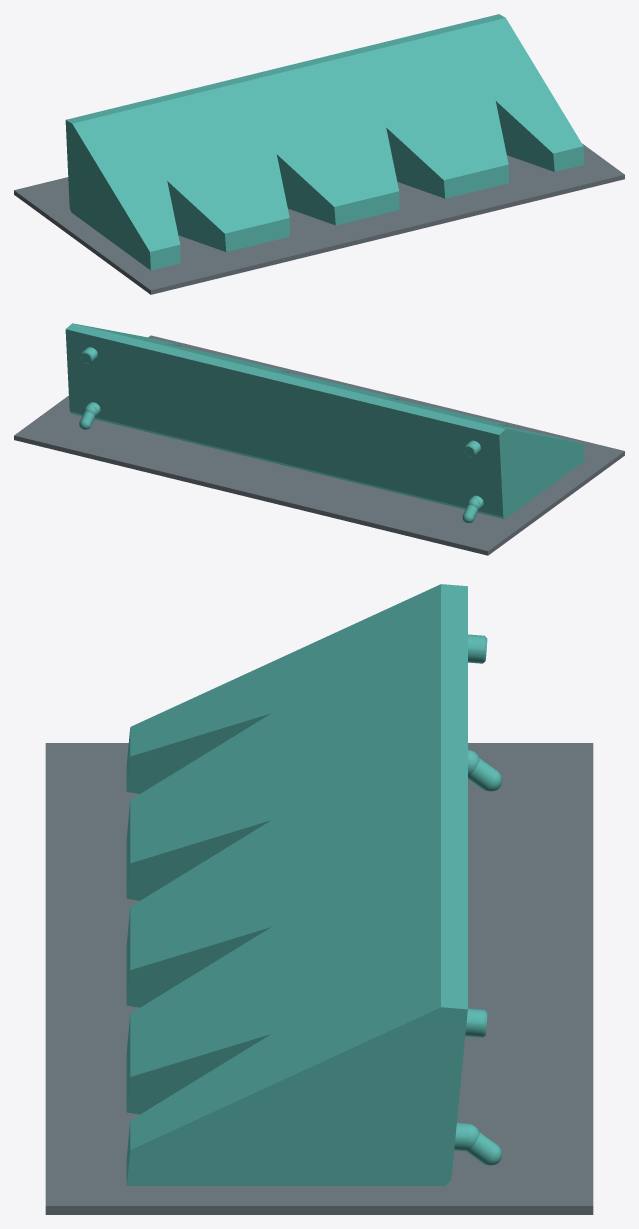
Rendered from part-bd01-slope-e__v2__print-sloped-top.glb.
The picture shows the model from 3 angles, top to bottom: view 1: azimuth 30°, elevation 25°; view 2: azimuth 150°, elevation 25°; view 3: azimuth 270°, elevation 25°; orthographic projection. The views are drawn at different scales.
Parts seen in each view (by area): view 1: Actual holder mesh, Print bed; view 2: Actual holder mesh, Print bed; view 3: Actual holder mesh, Print bed.
Boxes of the visible parts, left/top/right/bottom form: Actual holder mesh: left=65, top=14, right=584, bottom=270; Print bed: left=14, top=143, right=624, bottom=294; Actual holder mesh: left=65, top=323, right=584, bottom=522; Print bed: left=14, top=335, right=624, bottom=555; Actual holder mesh: left=126, top=584, right=501, bottom=1185; Print bed: left=45, top=743, right=593, bottom=1214.
Bounding box in the file's own units: 0.22 × 0.0416 × 0.11.
